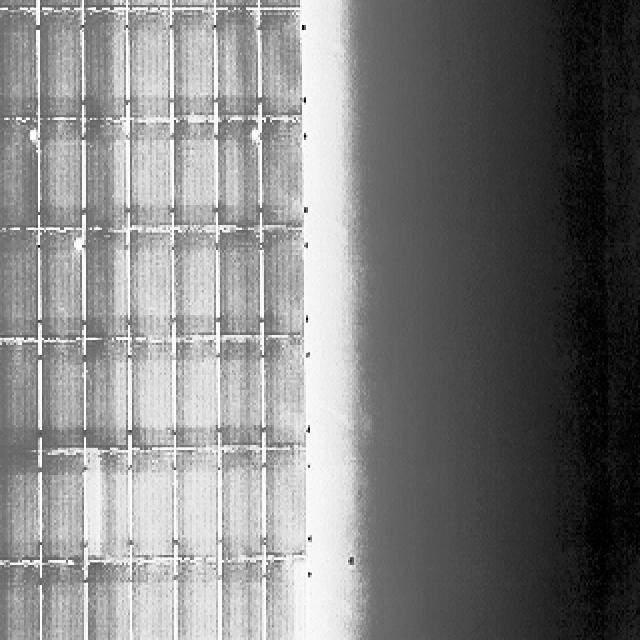Hotspots: (65, 234, 83, 258), (26, 130, 40, 148)
PV-modules: (258, 447, 306, 561), (257, 336, 305, 448), (80, 12, 127, 123), (39, 122, 86, 232), (87, 451, 133, 563), (121, 226, 167, 338), (81, 122, 127, 234), (40, 229, 86, 340), (41, 343, 87, 454), (255, 122, 301, 233), (173, 9, 218, 122), (120, 11, 165, 124), (128, 343, 175, 451), (42, 452, 88, 562), (172, 120, 218, 230), (172, 232, 218, 342), (174, 448, 220, 558), (40, 11, 86, 120), (221, 448, 266, 559), (84, 337, 128, 450), (215, 229, 261, 337), (215, 10, 260, 120), (255, 10, 300, 120), (218, 335, 262, 447), (174, 337, 219, 446), (130, 449, 175, 558), (215, 119, 259, 229), (0, 8, 44, 118), (0, 122, 44, 232), (127, 120, 171, 229), (82, 231, 126, 339), (262, 228, 306, 336), (0, 230, 38, 342), (0, 338, 38, 450), (0, 452, 38, 562), (259, 561, 307, 640), (125, 564, 172, 640), (85, 566, 133, 640), (174, 563, 220, 640), (39, 565, 86, 640), (219, 563, 263, 640), (0, 565, 38, 640), (258, 0, 300, 10), (38, 0, 84, 8), (122, 0, 168, 8), (172, 0, 216, 8), (212, 0, 256, 8), (80, 0, 124, 8), (0, 0, 38, 8)
